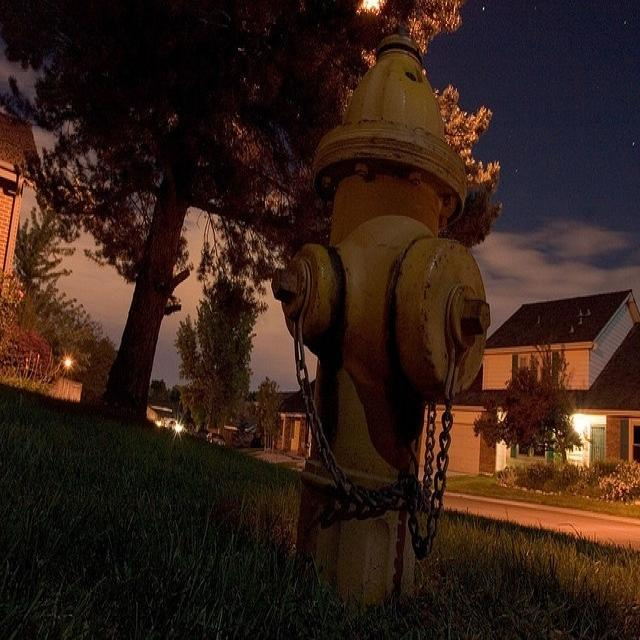fire_hydrant: (220, 0, 544, 607)
